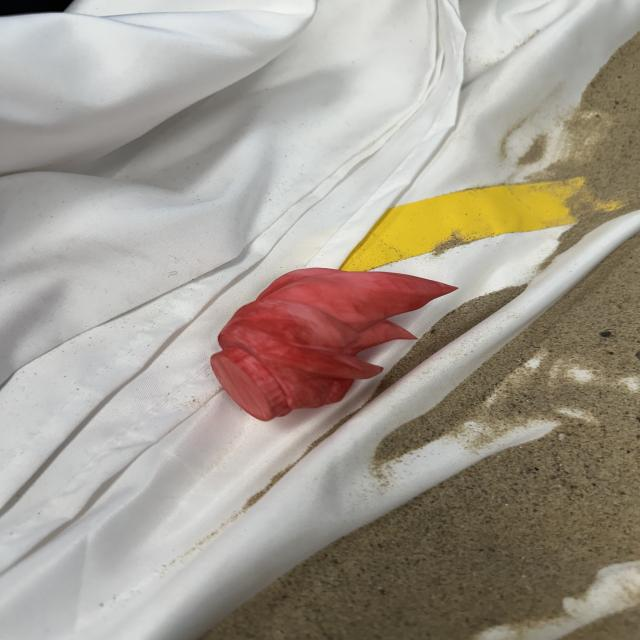fire: (210, 266, 460, 423)
